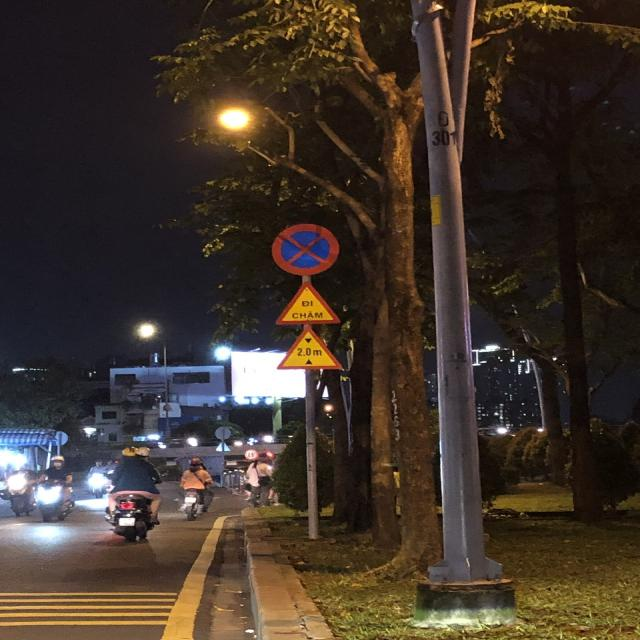Bien bao cam dung xe va do xe: (268, 222, 342, 278)
Bien bao chieu cao tinh khong thuc te: (271, 325, 347, 372)
Bien bao di cham: (272, 280, 346, 327)
